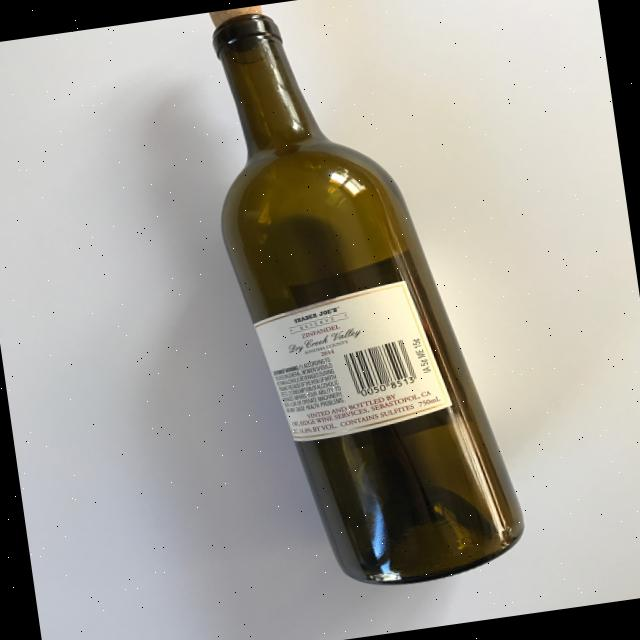glass: (198, 0, 527, 605)
